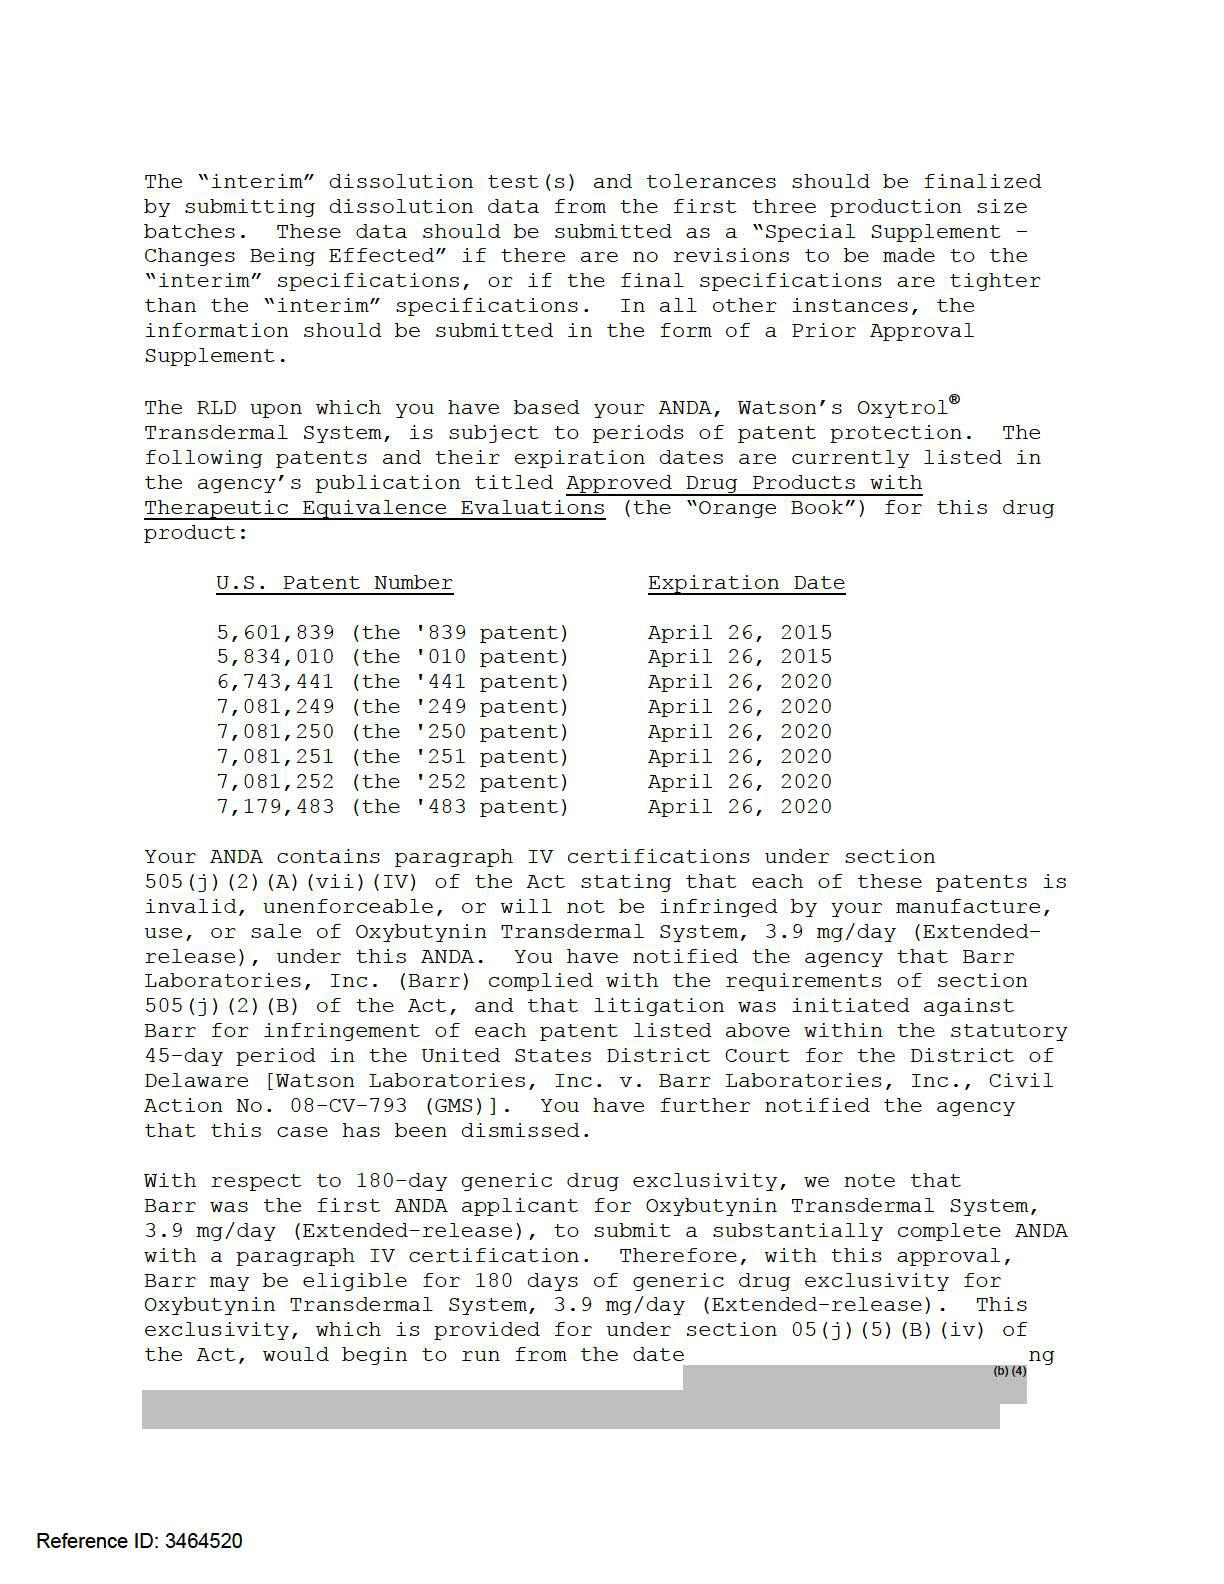nolines: (213, 570, 846, 819)
